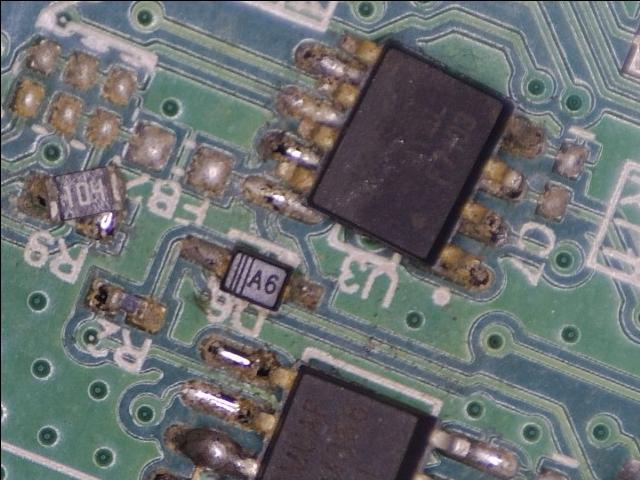Incorrect_installation: (240, 35, 543, 293), (19, 165, 132, 247)
